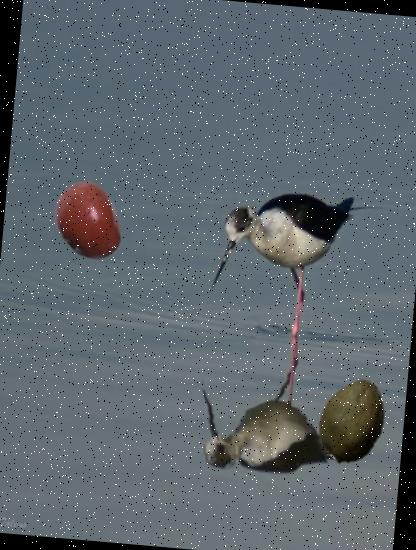Cherry: (46, 177, 134, 266)
Papaya: (310, 377, 400, 467)
